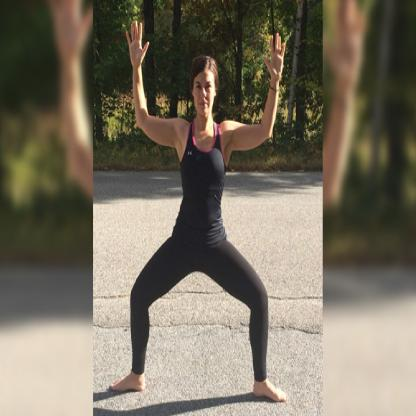godness: (106, 16, 292, 406)
